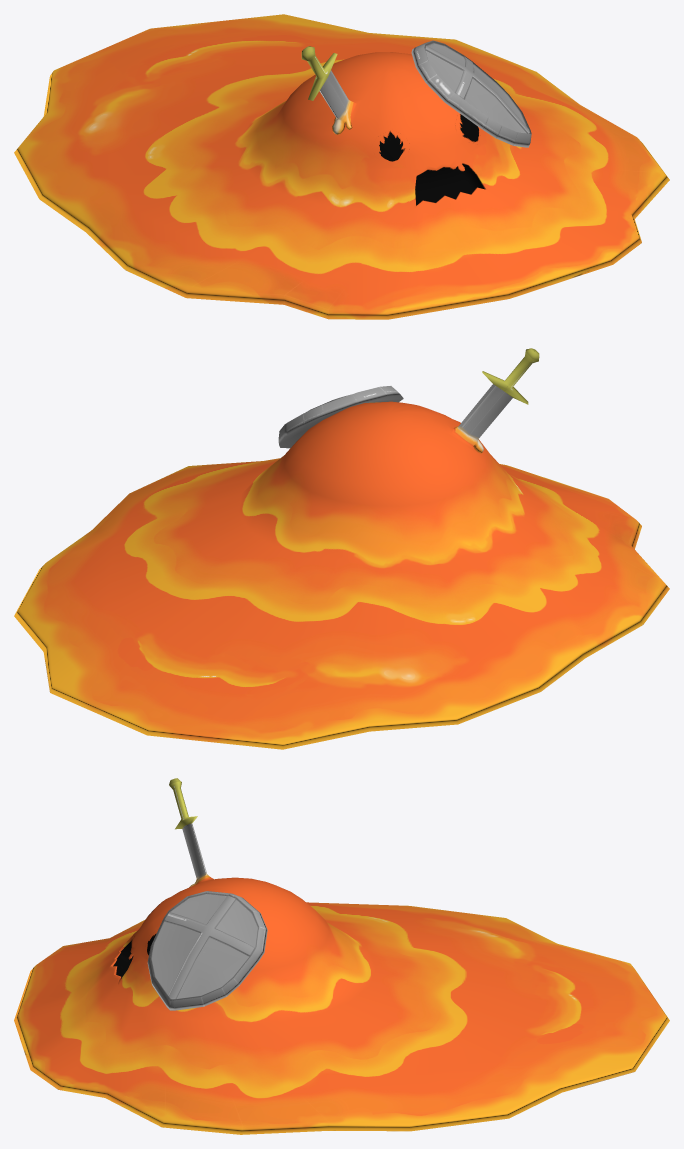
File: youkouro.fbx
3 views of the same model, one above another, from view 1: azimuth 30°, elevation 25°; view 2: azimuth 150°, elevation 25°; view 3: azimuth 270°, elevation 25° (orthographic). The views are drawn at different scales.
Visible parts, largest first — view 1: polySurface1; view 2: polySurface1; view 3: polySurface1.
Part boxes in pixels (x1,y1,x2,y2): polySurface1: [14, 14, 669, 319]; polySurface1: [14, 348, 669, 749]; polySurface1: [14, 778, 669, 1134].
Bounding box in the file's own units: 11.06 × 4.36 × 13.42.
1 material, 1 textured.
